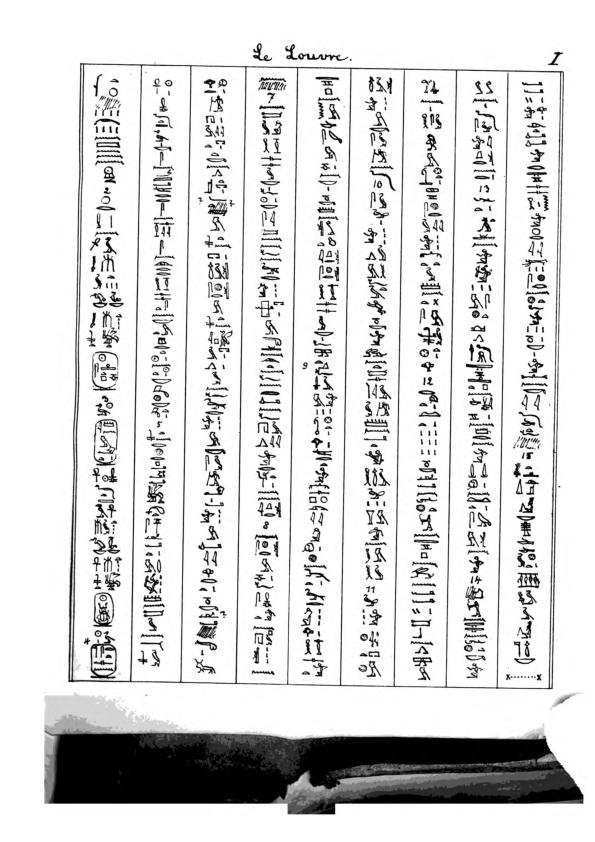circle: (92, 417, 118, 467), (90, 349, 120, 392), (89, 642, 118, 679), (93, 591, 114, 628)
